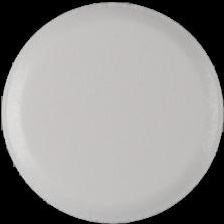10544-136: (0, 0, 224, 224)
